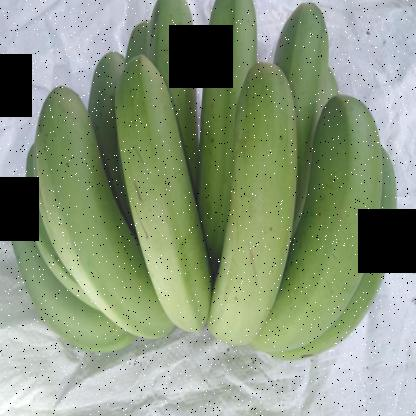freshunripe: (244, 88, 388, 392), (32, 70, 157, 340), (203, 55, 312, 362), (109, 49, 212, 339), (191, 0, 268, 243), (144, 0, 199, 144), (281, 0, 342, 108)
